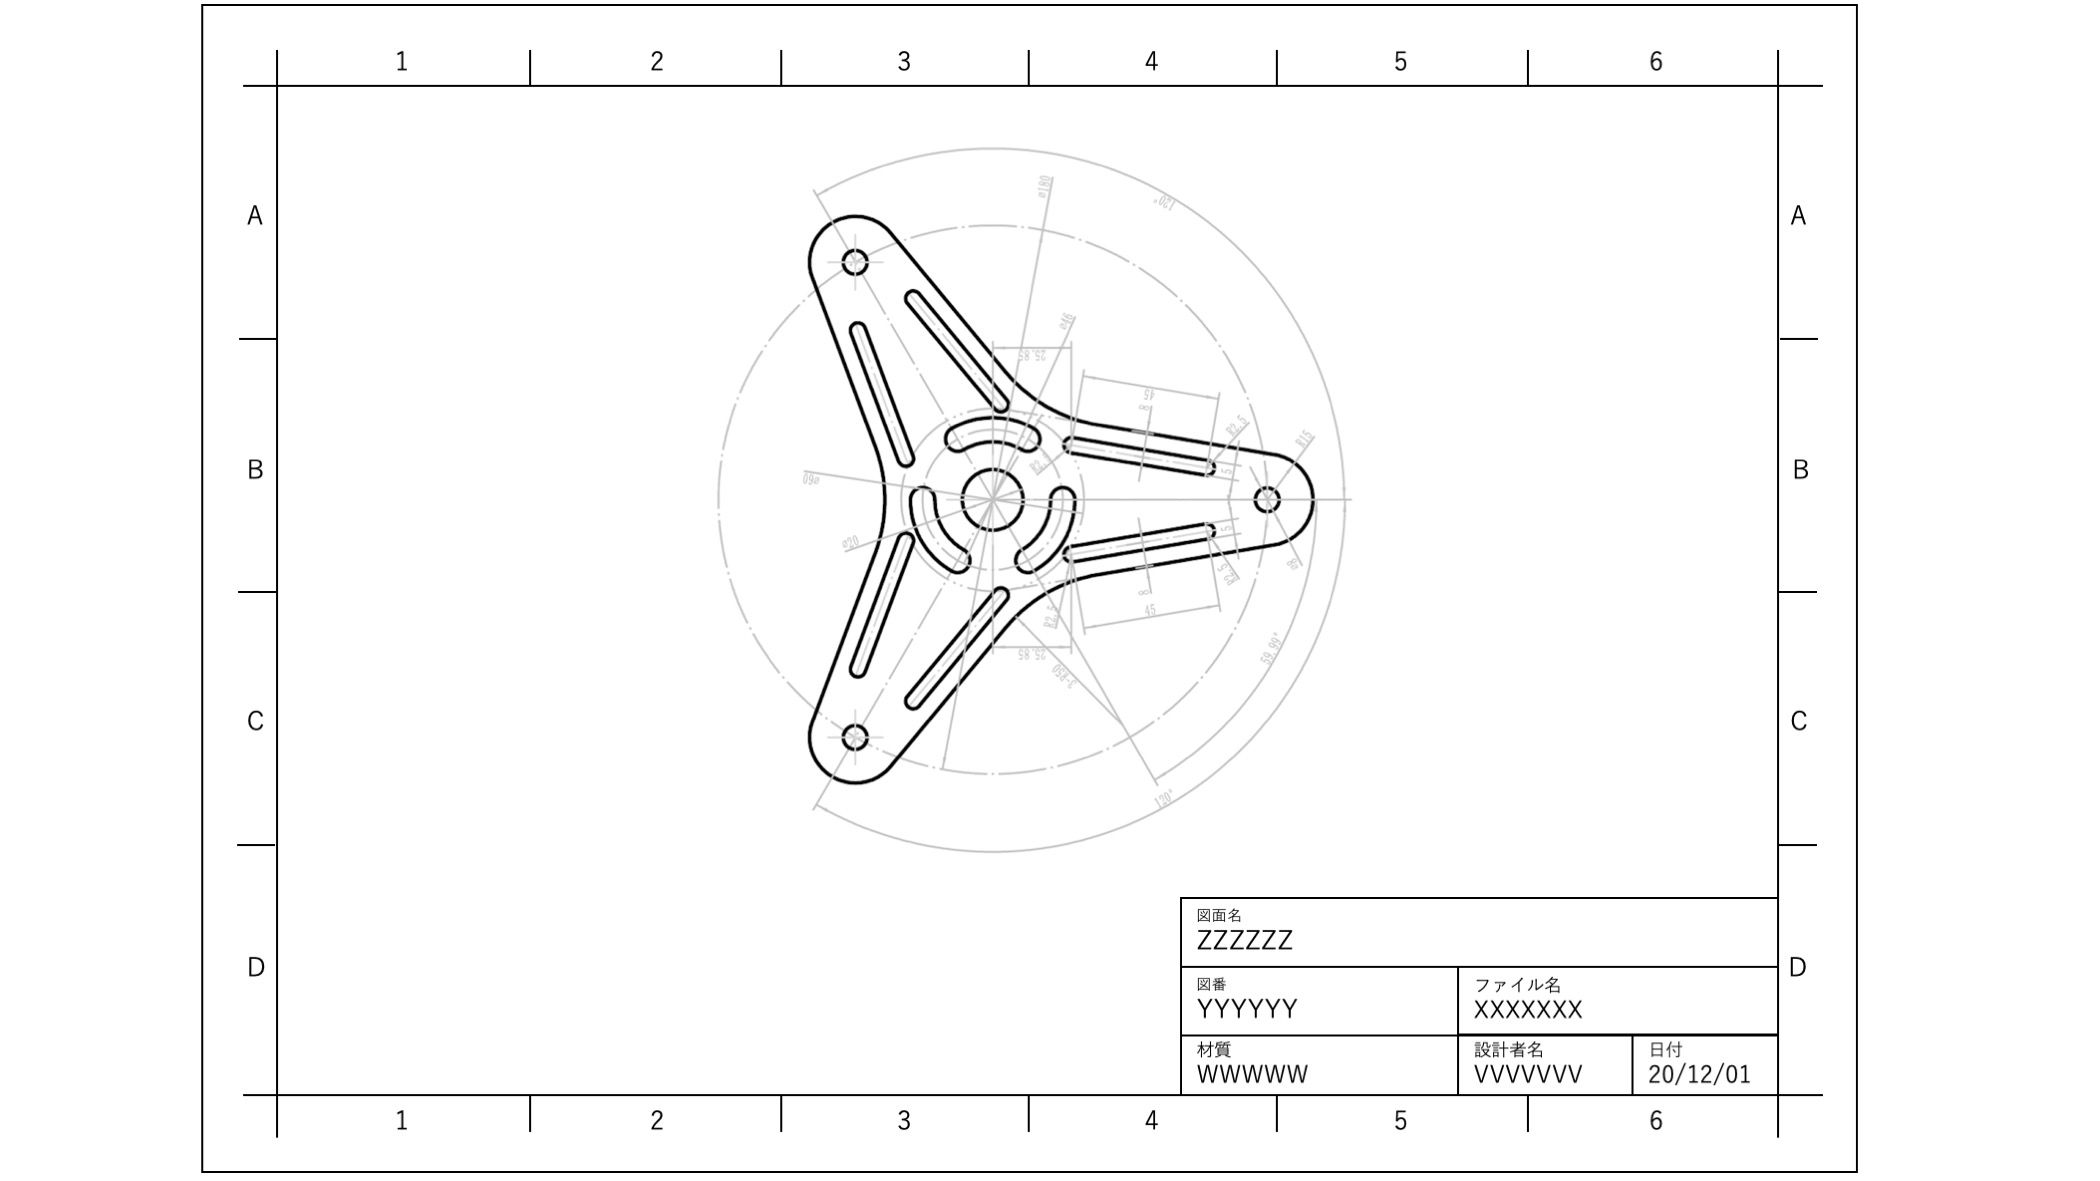circle: (963, 461, 1024, 535), (829, 715, 877, 751), (1248, 480, 1288, 516), (834, 244, 870, 271)
round_rectangle: (903, 583, 1025, 711), (901, 283, 1018, 410), (838, 521, 914, 676), (842, 311, 912, 466), (1059, 515, 1222, 568), (1053, 430, 1219, 477), (1010, 483, 1080, 585), (906, 480, 974, 577), (945, 412, 1043, 451)
